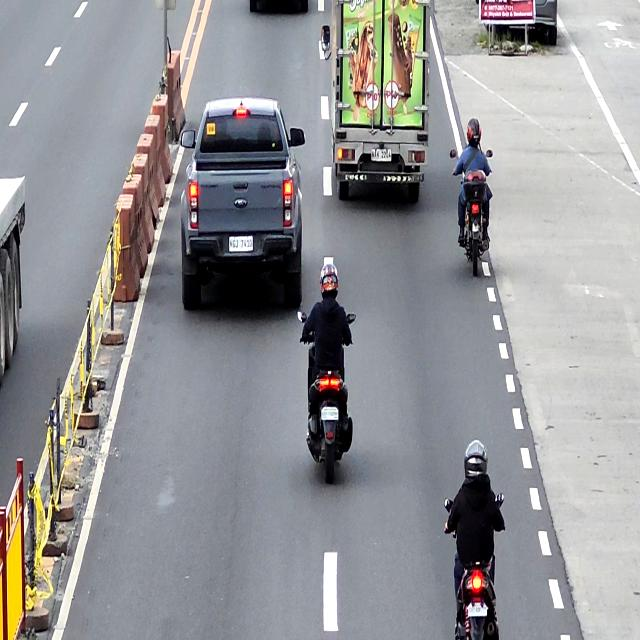Car: (178, 98, 306, 310)
License-Plate: (228, 236, 253, 252), (468, 602, 488, 618), (321, 406, 339, 420), (371, 149, 392, 161)
Motorcycle: (298, 307, 357, 487), (444, 496, 506, 640), (449, 145, 494, 277)
Truck: (321, 0, 433, 206)
